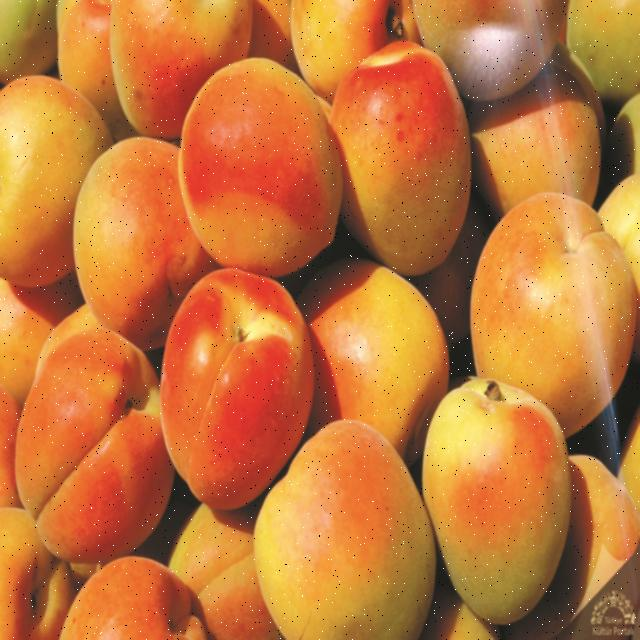kayisi: (429, 370, 573, 628), (177, 271, 323, 490), (181, 65, 340, 262), (310, 245, 454, 458), (264, 440, 413, 640), (478, 217, 627, 391), (47, 306, 154, 537), (344, 79, 482, 257), (3, 78, 98, 279), (84, 154, 196, 322), (488, 92, 604, 199), (115, 0, 248, 84), (310, 5, 434, 72), (74, 565, 168, 640)
